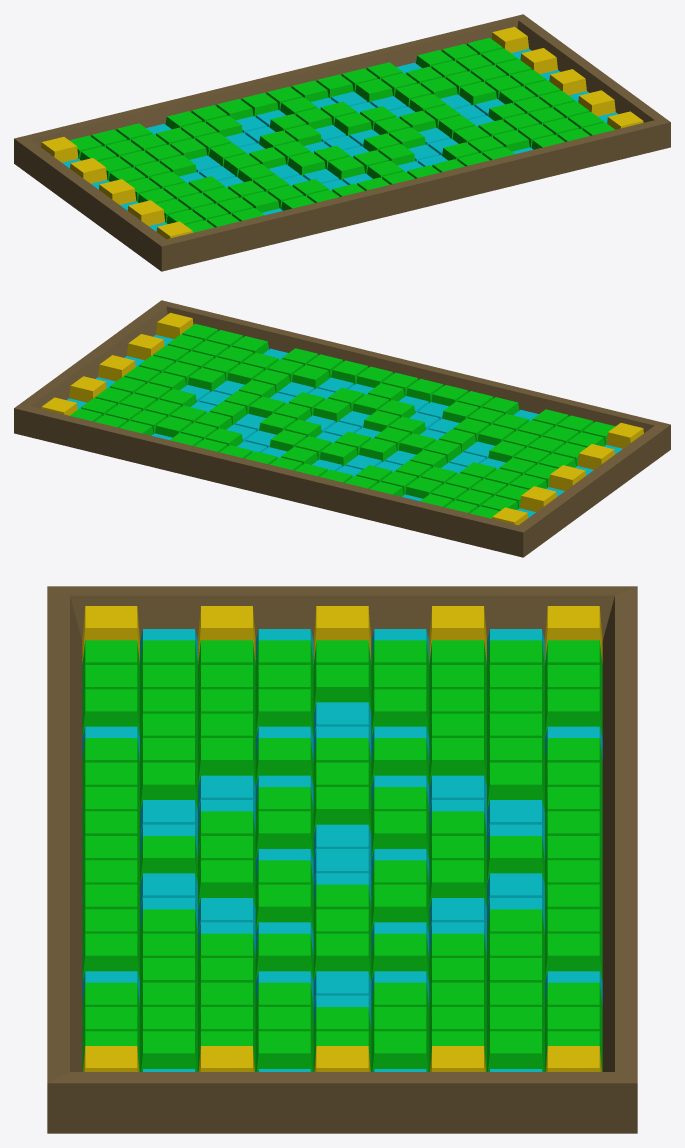
File: Board1.fbx
3 views of the same model, one above another, from view 1: azimuth 30°, elevation 25°; view 2: azimuth 150°, elevation 25°; view 3: azimuth 270°, elevation 25° (orthographic). The views are drawn at different scales.
Parts seen in each view (by area): view 1: Board; view 2: Board; view 3: Board.
Boxes of the visible parts, x1,y1,x2,y2 form: Board: [14, 14, 670, 271]; Board: [14, 300, 670, 557]; Board: [47, 586, 637, 1133].
Size of the model in its own units: 32557 by 1600 by 16334.
